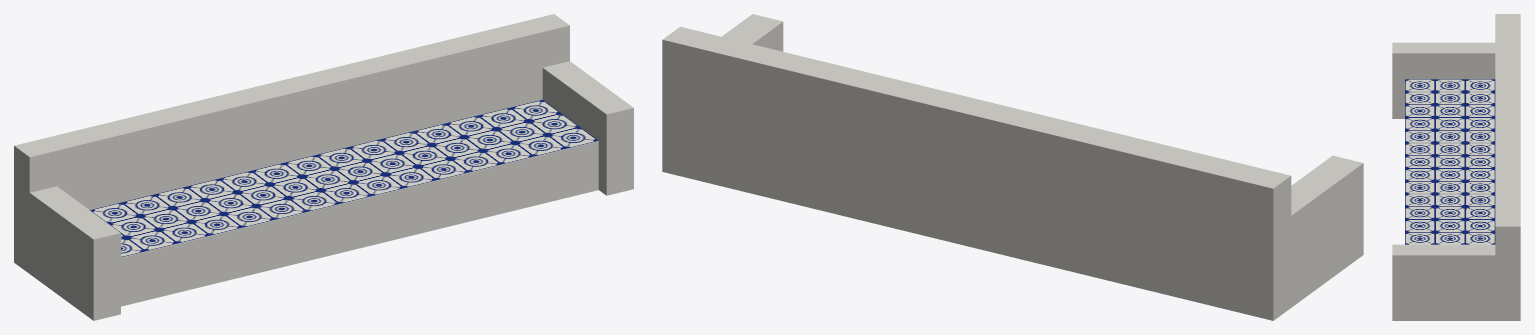
Rendered from bench.glb.
The picture shows the model from 3 angles, left to right: view 1: azimuth 30°, elevation 25°; view 2: azimuth 150°, elevation 25°; view 3: azimuth 270°, elevation 25°; orthographic projection. The views are drawn at different scales.
Parts seen in each view (by area): view 1: SG_Bench; view 2: SG_Bench; view 3: SG_Bench.
Part boxes in pixels (<box>): SG_Bench: <box>14,14,633,320</box>; SG_Bench: <box>662,14,1363,320</box>; SG_Bench: <box>1392,14,1520,320</box>.
Bounding box in the file's own units: 5.56 × 1.15 × 1.42.
2 materials, 1 textured.
